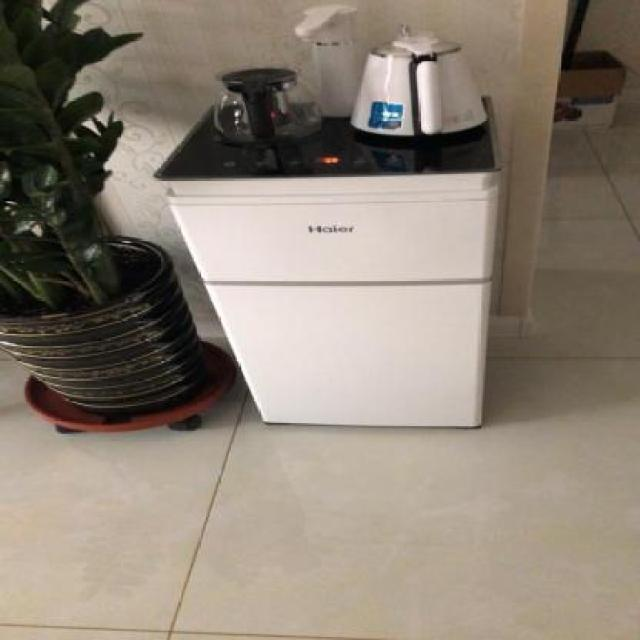cooler: (148, 4, 503, 432)
